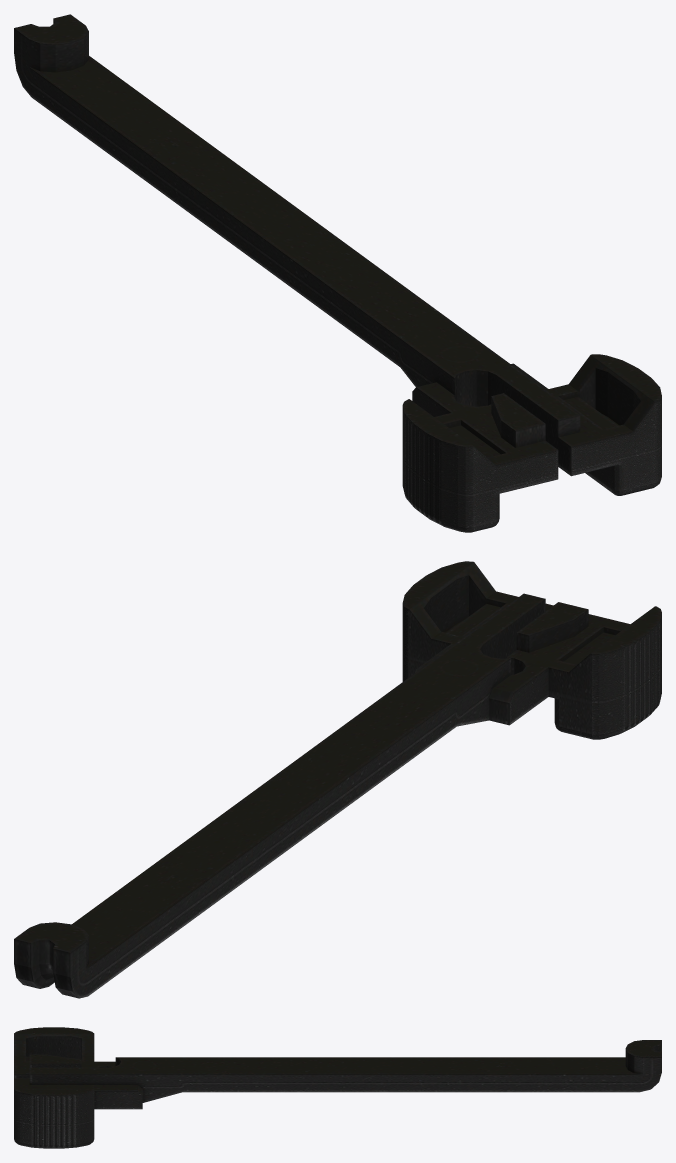
3 views of the same model, one above another, from view 1: azimuth 30°, elevation 25°; view 2: azimuth 150°, elevation 25°; view 3: azimuth 270°, elevation 25° (orthographic). The views are drawn at different scales.
Visible parts, largest first — view 1: TW_5de922d4b11454561e39239f_PZ_Import; view 2: TW_5de922d4b11454561e39239f_PZ_Import; view 3: TW_5de922d4b11454561e39239f_PZ_Import.
Part boxes in pixels (bbox=[...]): TW_5de922d4b11454561e39239f_PZ_Import: bbox=[14, 14, 661, 532]; TW_5de922d4b11454561e39239f_PZ_Import: bbox=[14, 561, 661, 998]; TW_5de922d4b11454561e39239f_PZ_Import: bbox=[14, 1027, 661, 1148].
Size of the model in its own units: 0.0209 by 0.0838 by 0.00967.
1 material, 1 textured.
